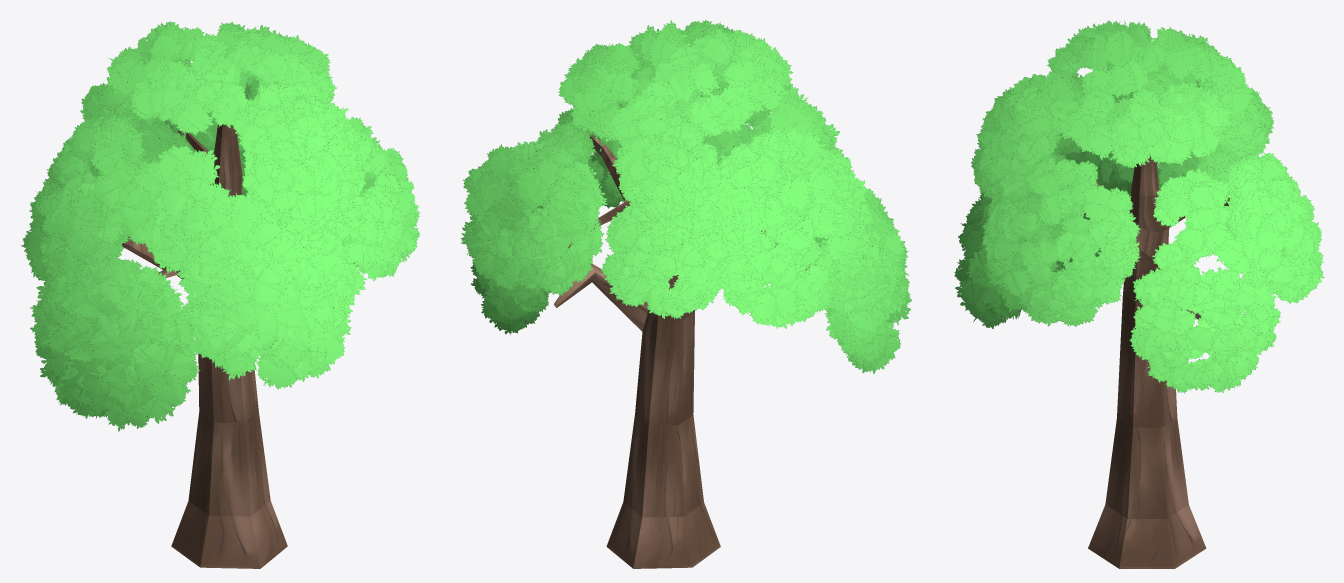
The model's file is treestylized.fbx.
3 renders of one model, left to right at view 1: azimuth 30°, elevation 25°; view 2: azimuth 150°, elevation 25°; view 3: azimuth 270°, elevation 25°, orthographic. The views are drawn at different scales.
Parts seen in each view (by area): view 1: leaves, Tree; view 2: leaves, Tree; view 3: leaves, Tree.
Part boxes in pixels (x1,y1,x2,y2): leaves: (21,21,420,431); Tree: (122,124,287,568); leaves: (460,19,911,373); Tree: (554,134,816,568); leaves: (954,20,1324,393); Tree: (1084,155,1229,568).
Bounding box in the file's own units: 630 × 782 × 538.
